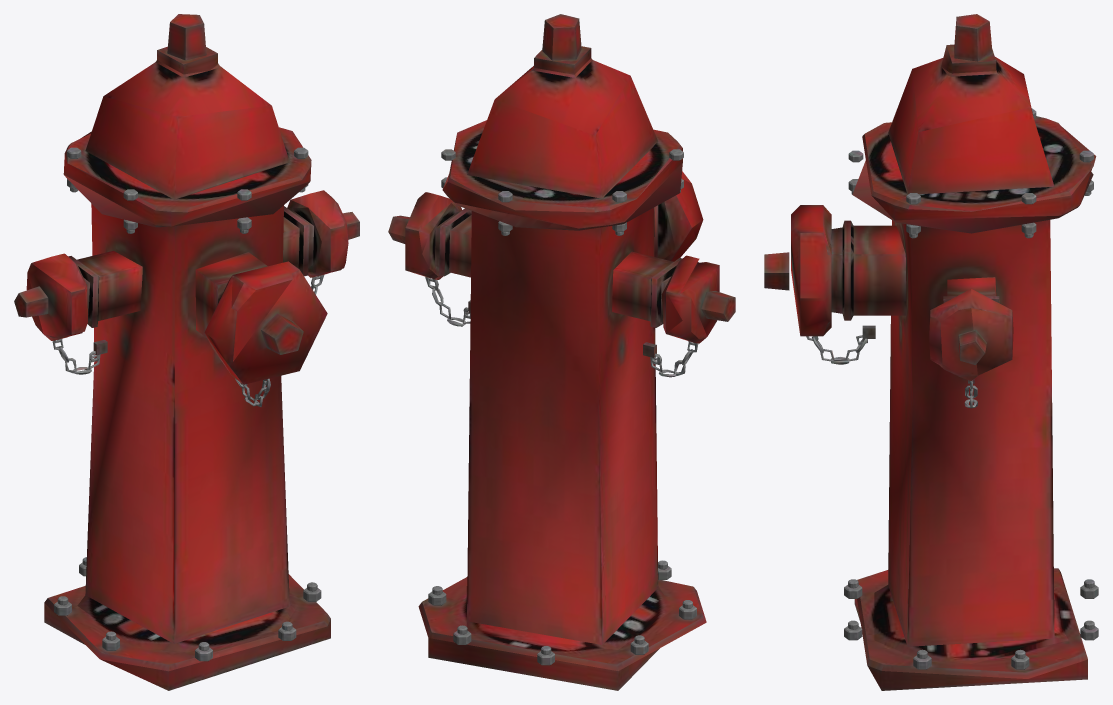
The model's file is g3-fire-hydrant-lite.glb.
3 views of the same model, side by side, from view 1: azimuth 30°, elevation 25°; view 2: azimuth 150°, elevation 25°; view 3: azimuth 270°, elevation 25° (orthographic).
Visible parts, largest first — view 1: fire-hydrant_body; view 2: fire-hydrant_body; view 3: fire-hydrant_body.
Boxes of the visible parts, <box> form: fire-hydrant_body: <box>14,14,359,690</box>; fire-hydrant_body: <box>388,14,735,690</box>; fire-hydrant_body: <box>764,14,1098,690</box>.
Bounding box in the file's own units: 0.426 × 0.744 × 0.3633.
1 material, 1 textured.
